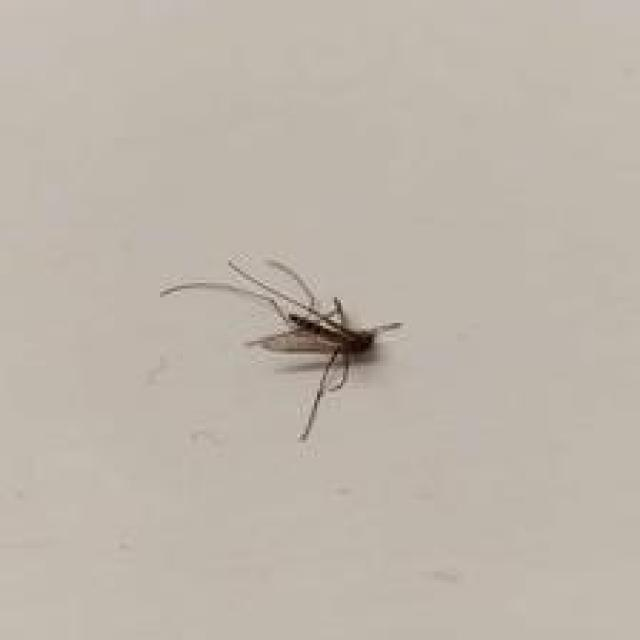Culex: (159, 253, 404, 441)
